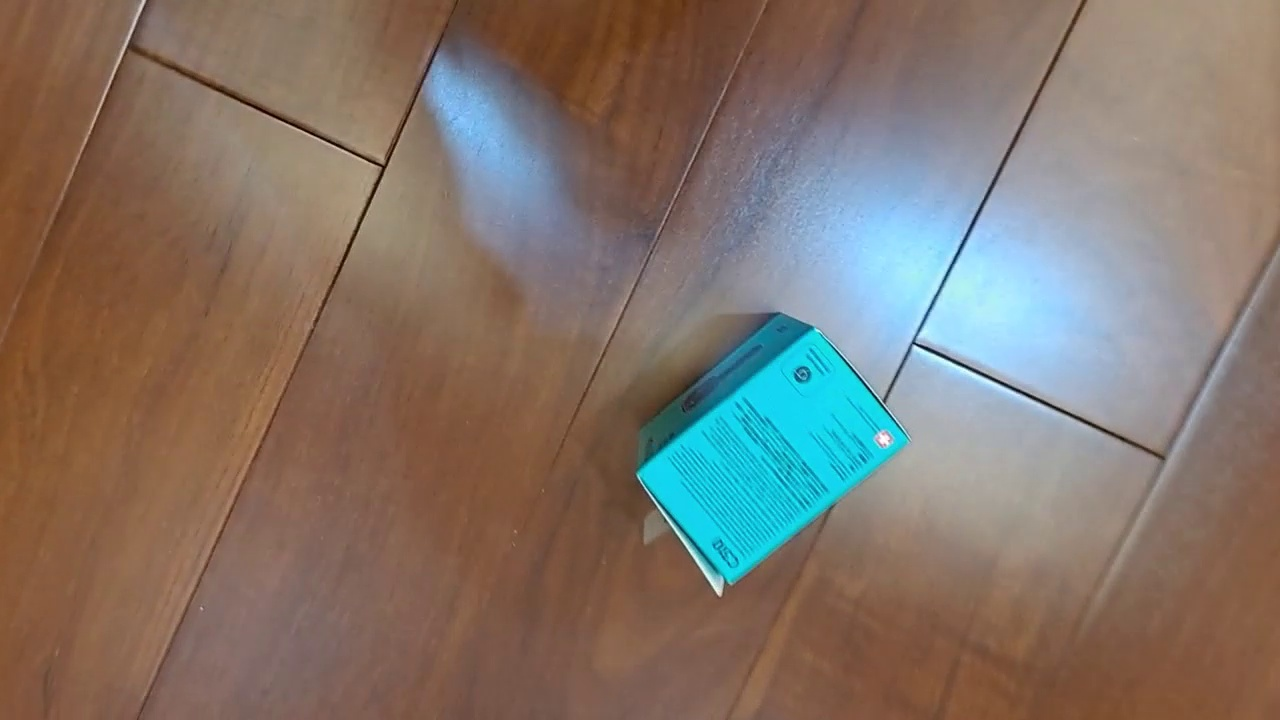webcam: (635, 311, 912, 599)
